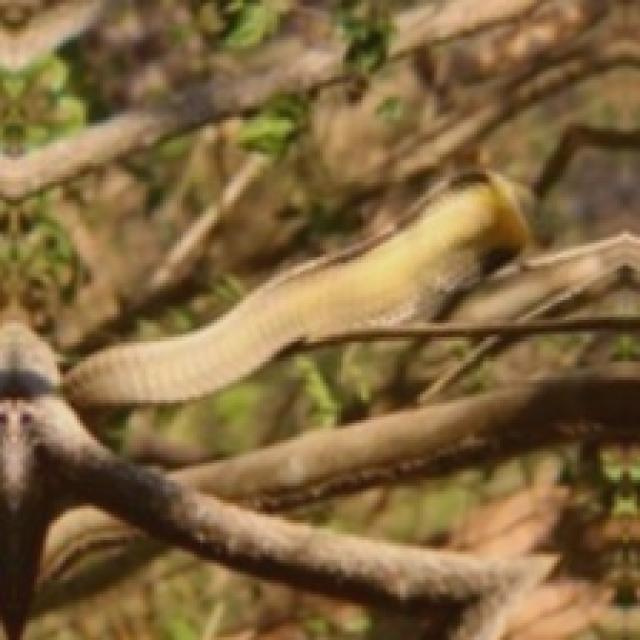king cobra: (0, 326, 540, 637), (69, 174, 526, 403), (140, 174, 523, 400)
